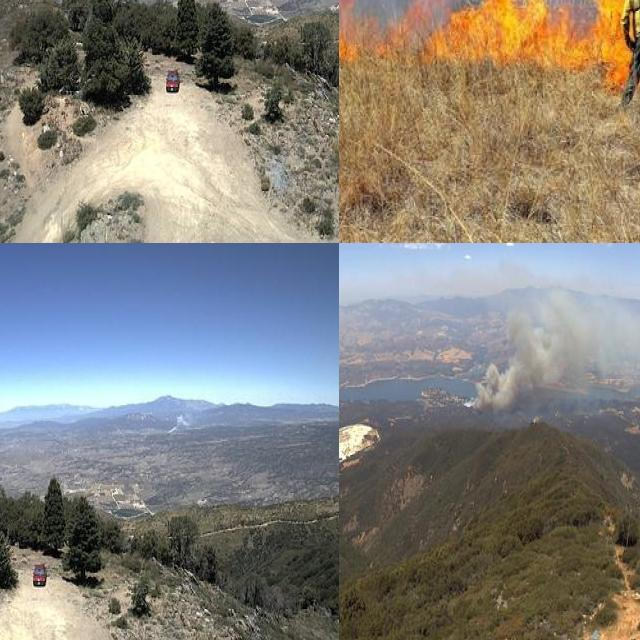fire: (339, 0, 640, 97)
smoke: (460, 274, 640, 412), (157, 404, 205, 439)
